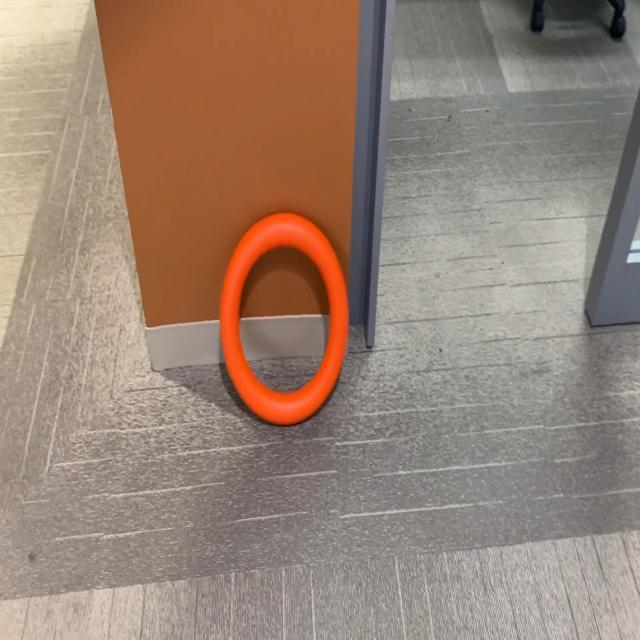note: (219, 211, 349, 427)
